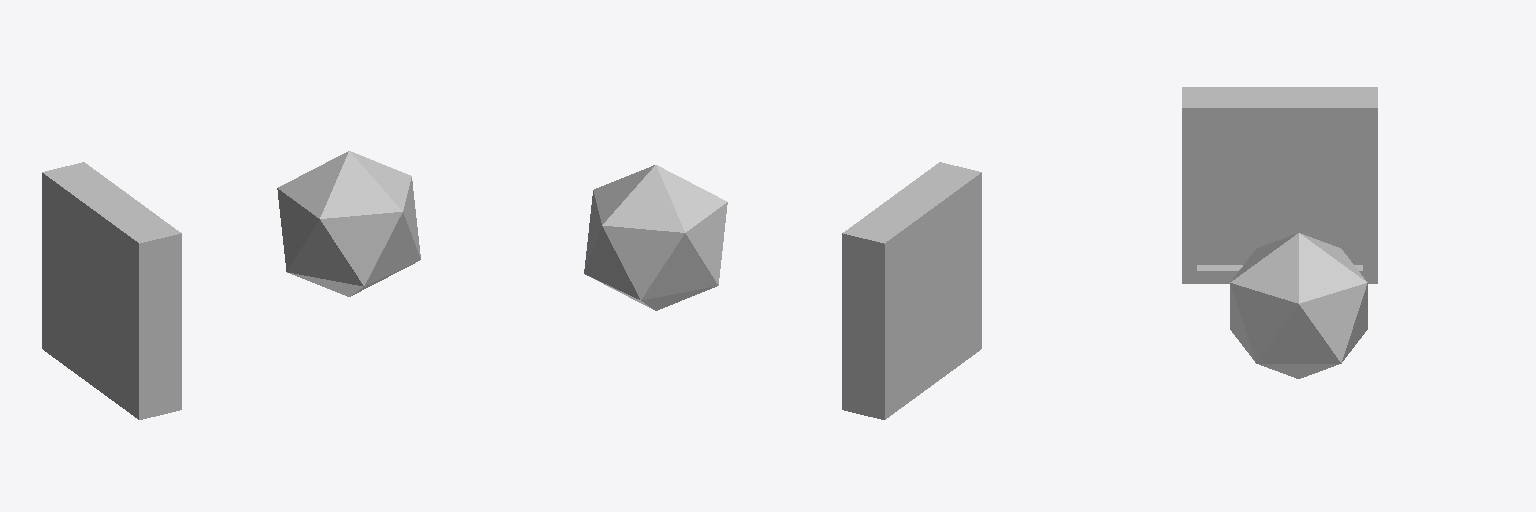
The model's file is klane.obj.
3 views of the same model, side by side, from view 1: azimuth 30°, elevation 25°; view 2: azimuth 150°, elevation 25°; view 3: azimuth 270°, elevation 25° (orthographic).
Parts seen in each view (by area): view 1: Cube, 棱角球; view 2: Cube, 棱角球; view 3: Cube, 棱角球.
Part boxes in pixels (left/top/right/bottom): Cube: left=42, top=162, right=181, bottom=419; 棱角球: left=277, top=151, right=420, bottom=296; Cube: left=842, top=162, right=981, bottom=419; 棱角球: left=584, top=165, right=727, bottom=310; Cube: left=1182, top=87, right=1377, bottom=283; 棱角球: left=1230, top=233, right=1367, bottom=378.
Size of the model in its own units: 13.14 by 6.71 by 6.71.